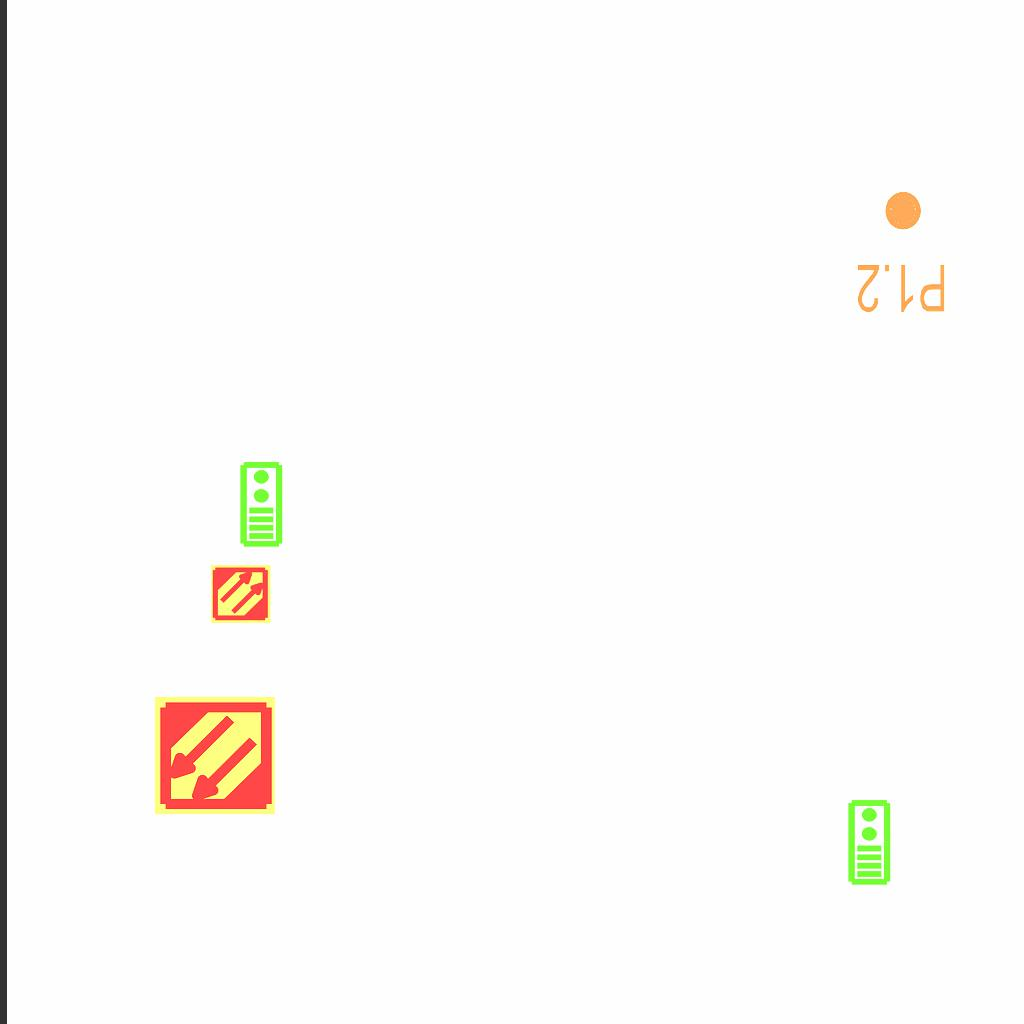ASR_Ansaugrauchmelder: (152, 693, 277, 818), (210, 563, 272, 625)
Downlight_LED_Einbauleuchten_Flur: (855, 188, 948, 316)
Gegensprechanlage_mit_Video: (845, 798, 892, 886), (237, 460, 284, 548)
